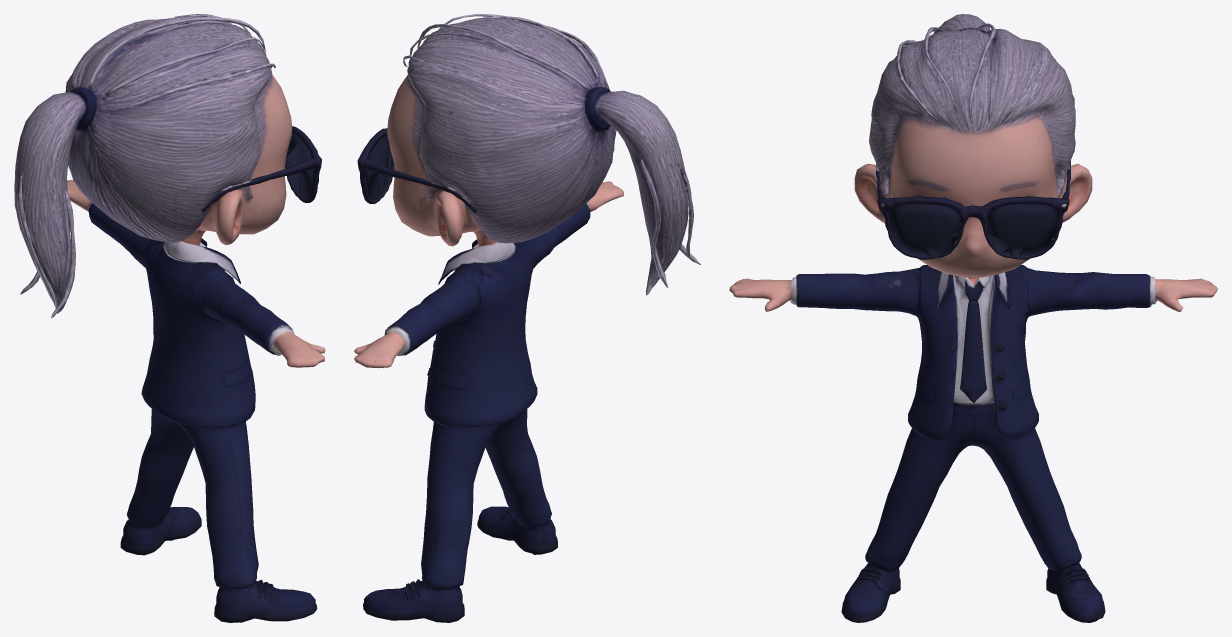
Rendered from neutral_avatar_2.glb.
The picture shows the model from 3 angles, left to right: view 1: azimuth 30°, elevation 25°; view 2: azimuth 150°, elevation 25°; view 3: azimuth 270°, elevation 25°; orthographic projection.
Visible parts, largest first — view 1: tripo_part_13, tripo_part_15, tripo_part_16, tripo_part_0, tripo_part_5, tripo_part_29, tripo_part_33; view 2: tripo_part_13, tripo_part_15, tripo_part_16, tripo_part_33, tripo_part_29, tripo_part_5, tripo_part_0; view 3: tripo_part_13, tripo_part_15, tripo_part_16, tripo_part_33, tripo_part_0, tripo_part_5, tripo_part_29.
Part boxes in pixels (x1,y1,x2,y2): tripo_part_13: (14,14,321,318); tripo_part_15: (141,238,255,428); tripo_part_16: (126,409,258,588); tripo_part_0: (199,273,325,367); tripo_part_5: (214,579,317,622); tripo_part_29: (120,507,201,555); tripo_part_33: (67,180,152,267); tripo_part_13: (357,14,700,295); tripo_part_15: (424,239,537,427); tripo_part_16: (421,409,551,589); tripo_part_33: (354,273,479,368); tripo_part_29: (363,579,464,622); tripo_part_5: (477,506,557,554); tripo_part_0: (526,181,624,268); tripo_part_13: (854,14,1092,277); tripo_part_15: (908,265,1038,440); tripo_part_16: (865,402,1081,571); tripo_part_33: (1025,267,1217,316); tripo_part_0: (729,268,920,316); tripo_part_5: (841,563,900,622); tripo_part_29: (1046,563,1105,622).
Bounding box in the file's own units: 0.5303 × 1 × 0.8082.
Materials: 1 (1 with a texture image).
